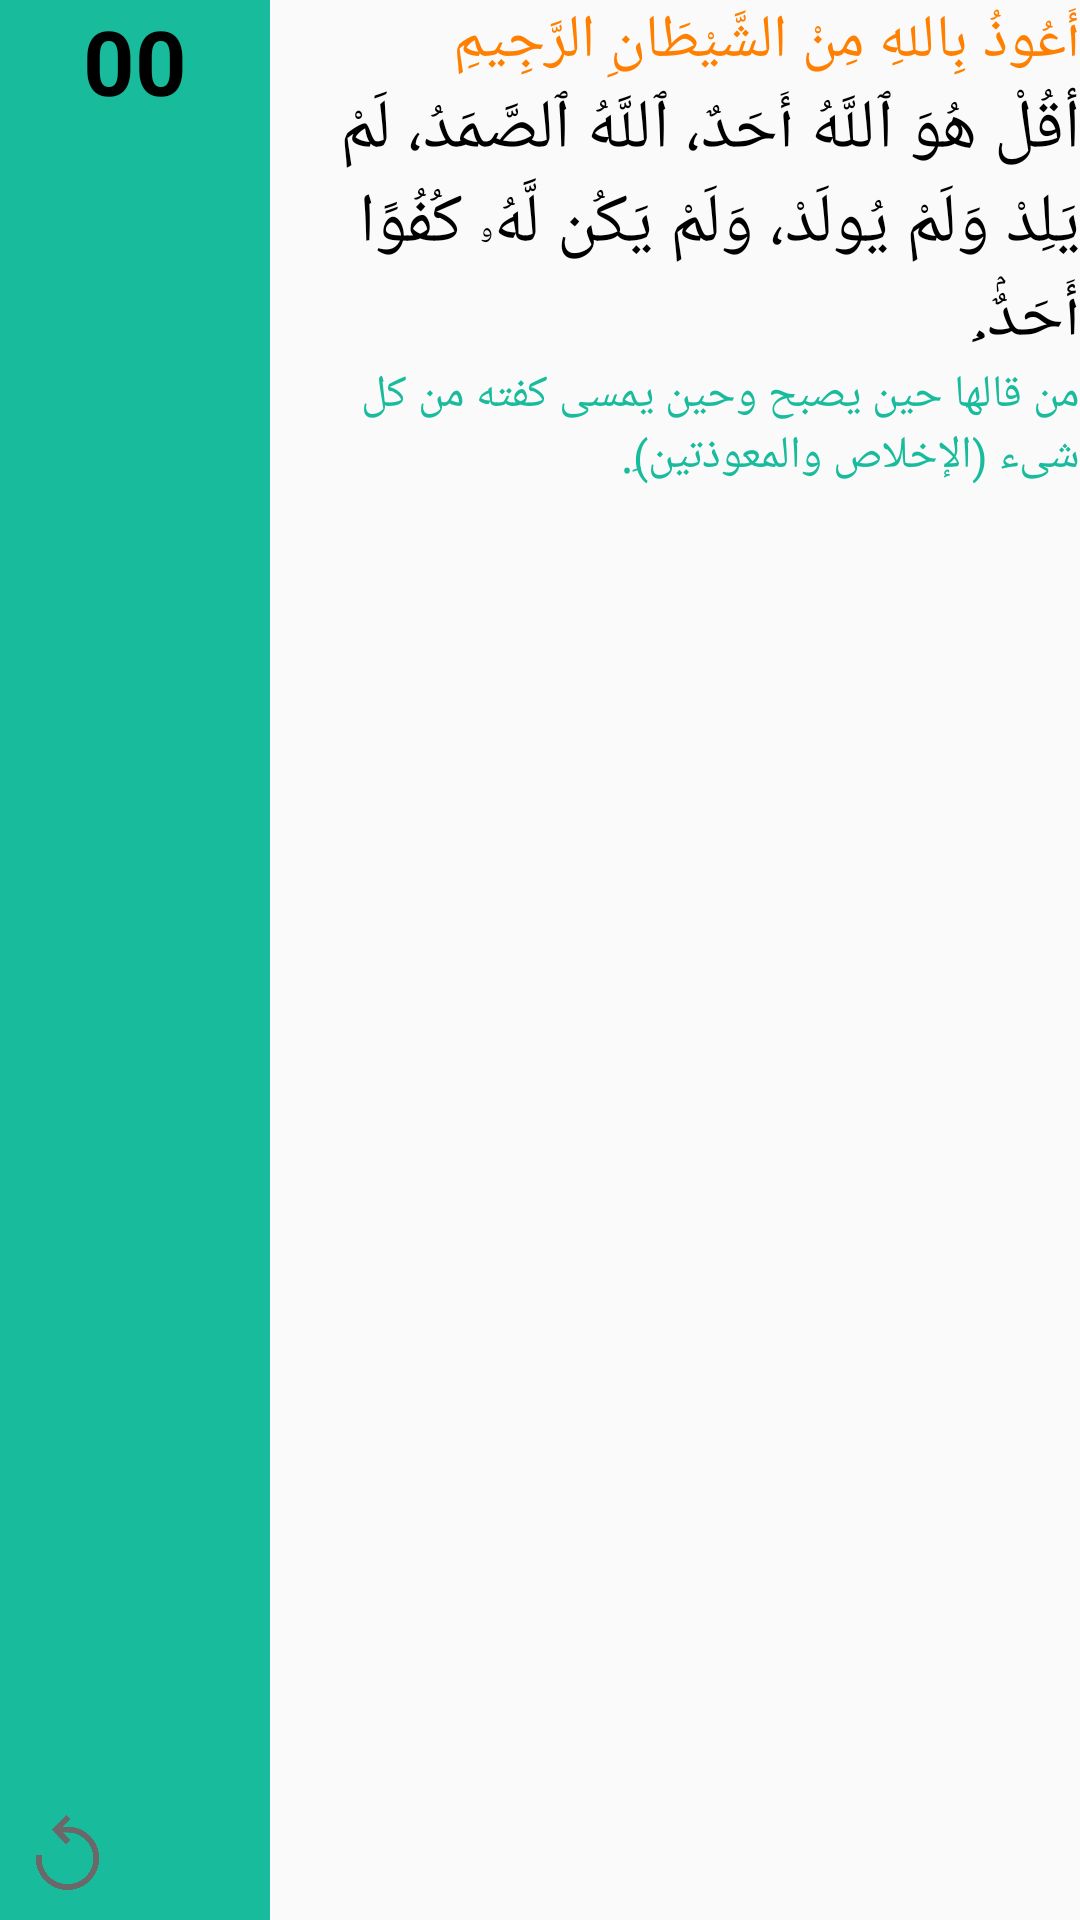

Named icons in this screenshot (1080x1920) and their centers, (x,y):
reload: (67,1852)
